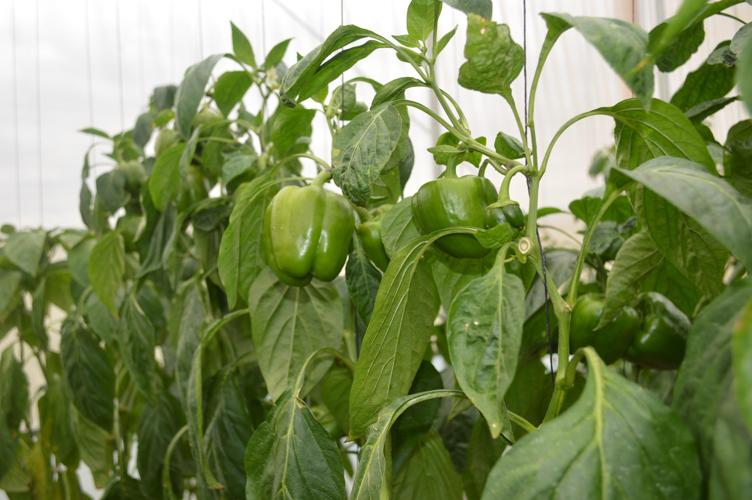BellPepper: (264, 185, 351, 282), (414, 177, 499, 253), (564, 291, 629, 369), (629, 292, 692, 372)
